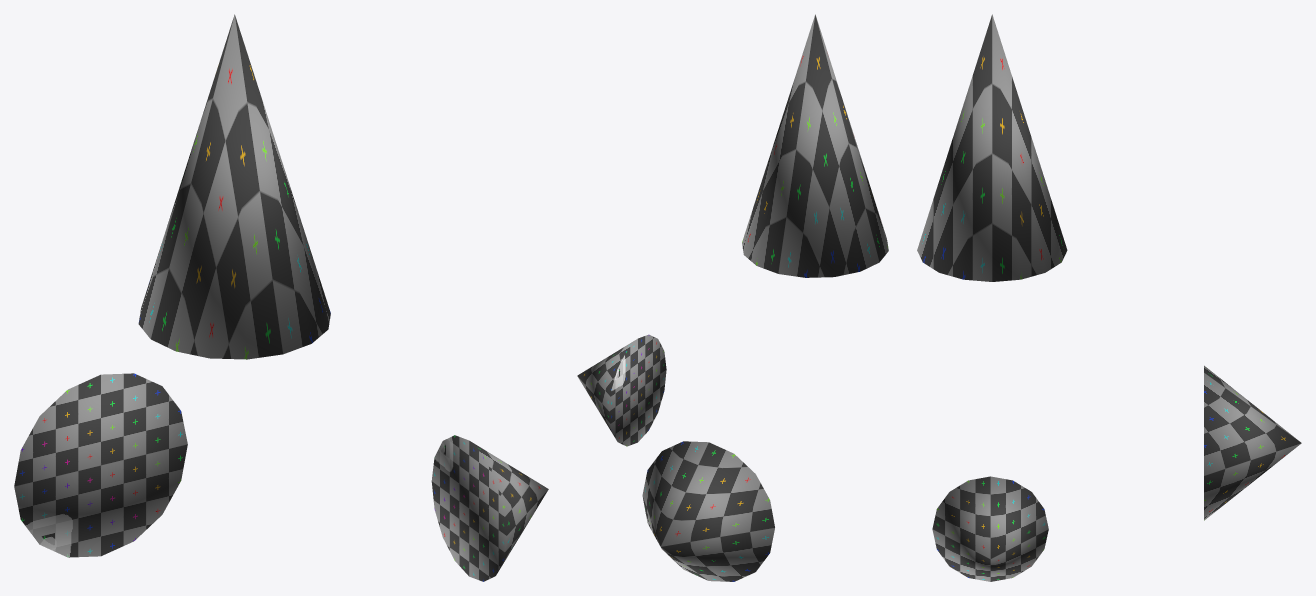
3 views of the same model, side by side, from view 1: azimuth 30°, elevation 25°; view 2: azimuth 150°, elevation 25°; view 3: azimuth 270°, elevation 25° (orthographic). The views are drawn at different scales.
Parts seen in each view (by area): view 1: Cone; view 2: Cone; view 3: Cone.
Boxes of the visible parts, box(x1,y1,x2,y2) form: Cone: box(14, 14, 548, 581); Cone: box(577, 14, 888, 581); Cone: box(917, 14, 1301, 581).
Size of the model in its own units: 1.73 by 2.68 by 1.88.
1 material, 1 textured.
